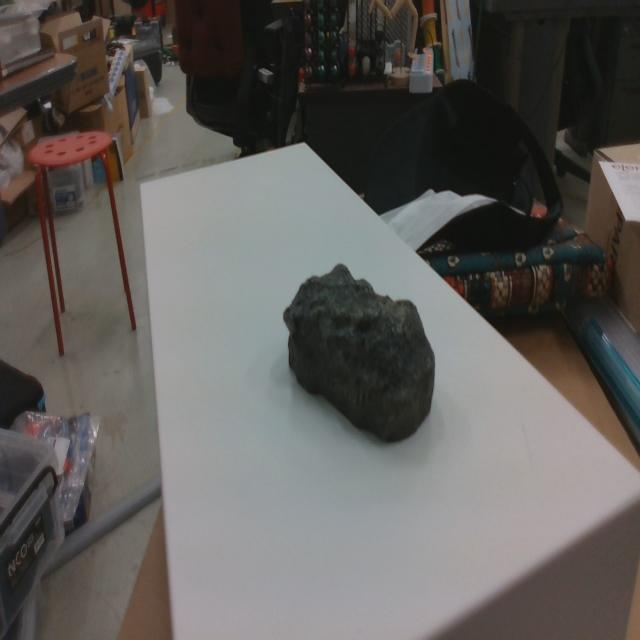stone: (283, 262, 435, 443)
